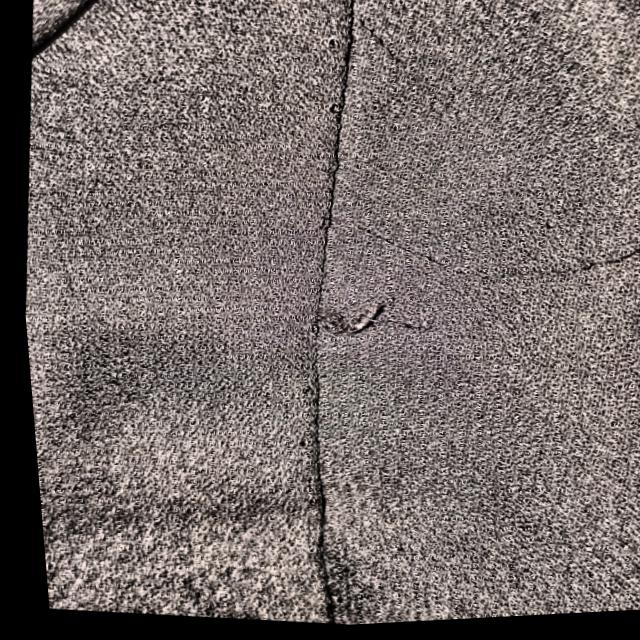Stitch: (280, 274, 463, 369)
